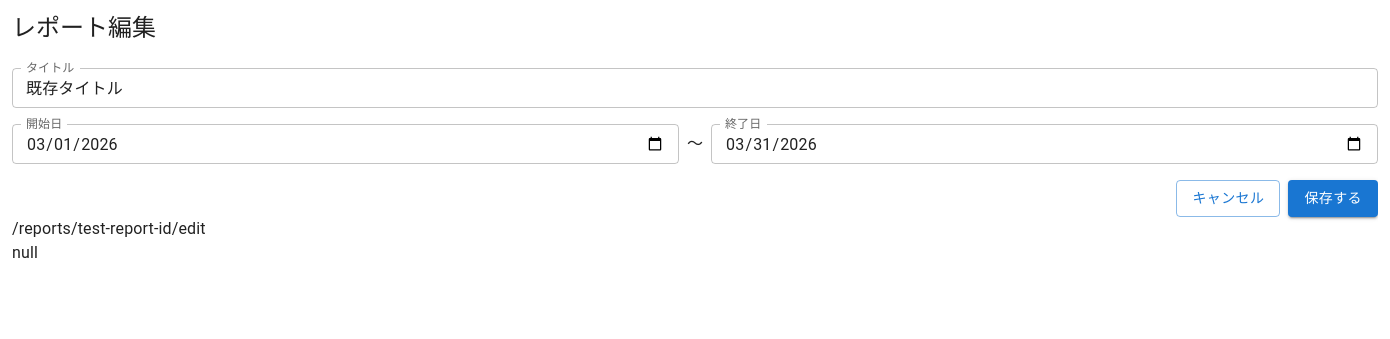
ReportEditPage › RPT-FE-055: useUpdateReport が 409 CONFLICT を返すと FormAlert に競合エラーが表示される
The width and height of the screenshot is (1390, 339).
Click the button "保存する" at (1333, 198), box 1288,180 -> 1378,216
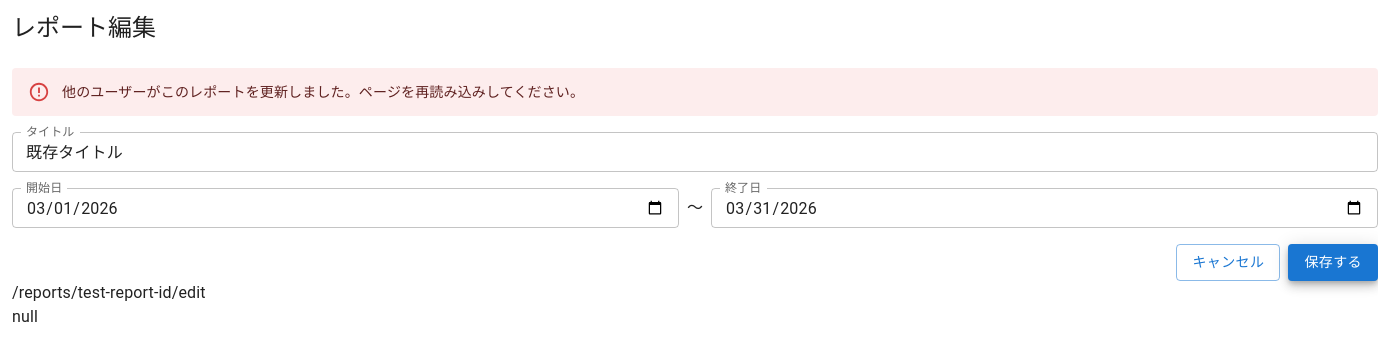
Check: the message "他のユーザーがこのレポートを更新しました。ページを再読み込みしてください。" is shown, box 12,68 -> 1378,116
Check: the message with test id "form-alert" shows "他のユーザーがこのレポートを更新しました", box 62,84 -> 584,100
